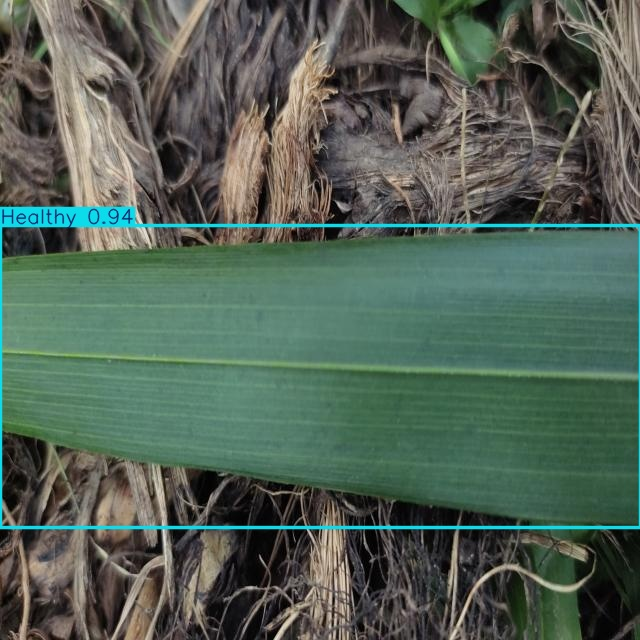Healthy: (0, 226, 640, 528)
